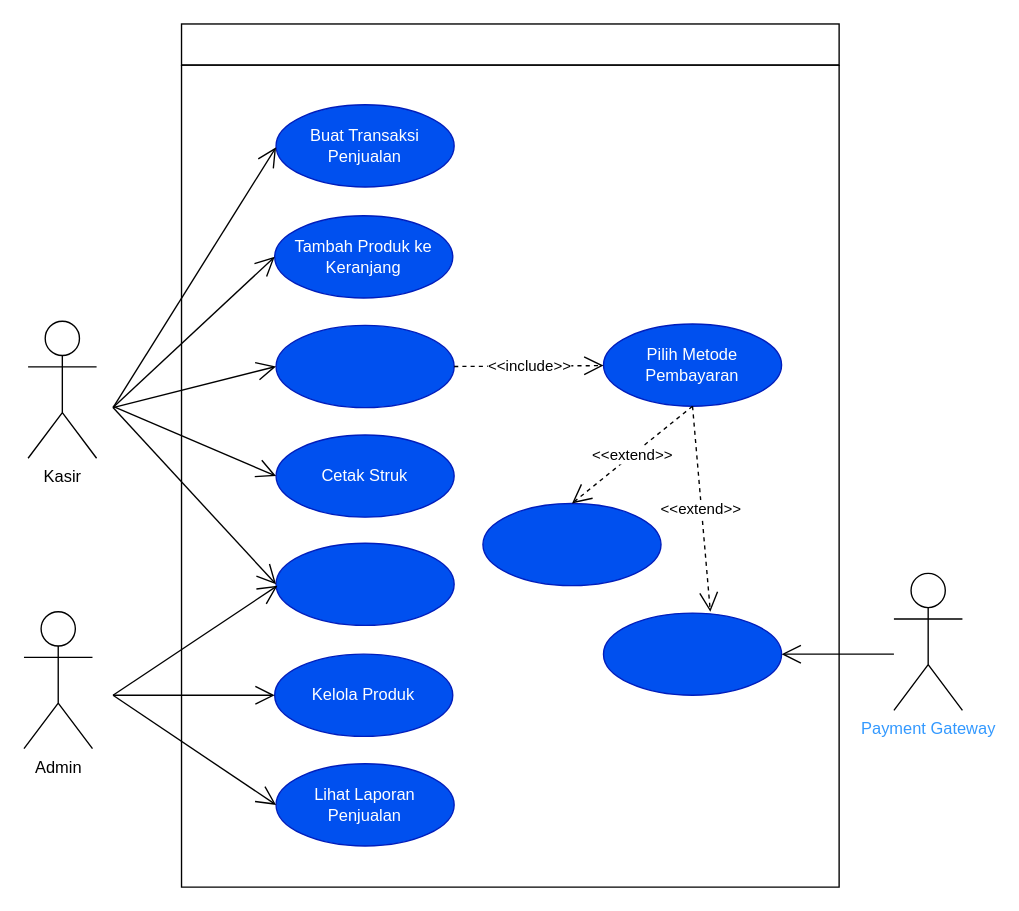
This 1019x911 diagram has some shape labels left out. Each missing label, with the centre of its shape:
"Checkout" belongs at (x=364, y=366).
"Login Sistem" belongs at (x=364, y=583).
"Pembayaran E-Wallet" belongs at (x=692, y=653).
"Pembayaran Tunai" belongs at (x=571, y=544).
"Sistem Agri -POS" belongs at (x=509, y=44).
